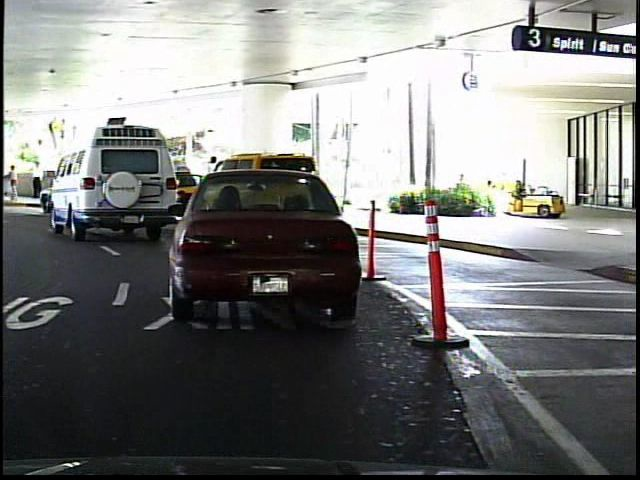person: (201, 154, 225, 215), (8, 162, 24, 203), (30, 159, 45, 202)
